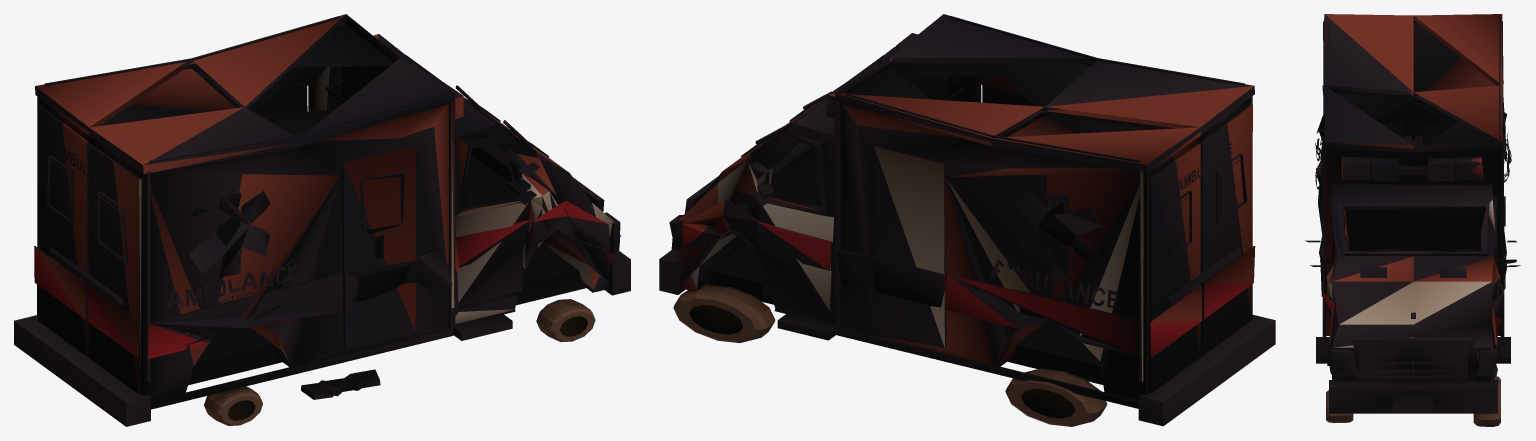
File: veh.ambulance.burned.glb
3 views of the same model, side by side, from view 1: azimuth 30°, elevation 25°; view 2: azimuth 150°, elevation 25°; view 3: azimuth 270°, elevation 25° (orthographic). The views are drawn at different scales.
Parts seen in each view (by area): view 1: body, wheelFL, wheelRL; view 2: body, wheelFR, wheelRR; view 3: body, wheelFR, wheelFL.
Part boxes in pixels (x1,y1,x2,y2): body: [14, 14, 630, 426]; wheelFL: [536, 299, 595, 342]; wheelRL: [204, 386, 262, 425]; body: [659, 14, 1275, 426]; wheelFR: [673, 284, 775, 343]; wheelRR: [1005, 368, 1107, 426]; body: [1305, 14, 1520, 413]; wheelFR: [1473, 376, 1500, 426]; wheelFL: [1326, 390, 1353, 423].
Size of the model in its own units: 6.21 by 3.31 by 2.79.
